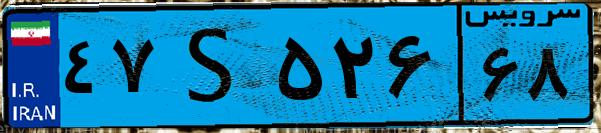2: (330, 28, 385, 110)
4: (57, 26, 110, 100)
5: (270, 28, 330, 110)
6: (385, 28, 445, 110), (475, 38, 525, 113)
7: (110, 28, 158, 98)
8: (525, 38, 570, 115)
S: (158, 12, 270, 120)
